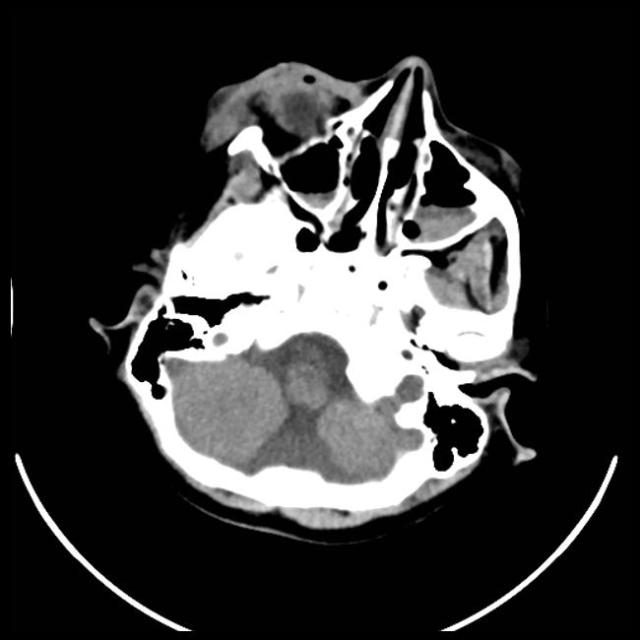lesion: (94, 51, 544, 535)
